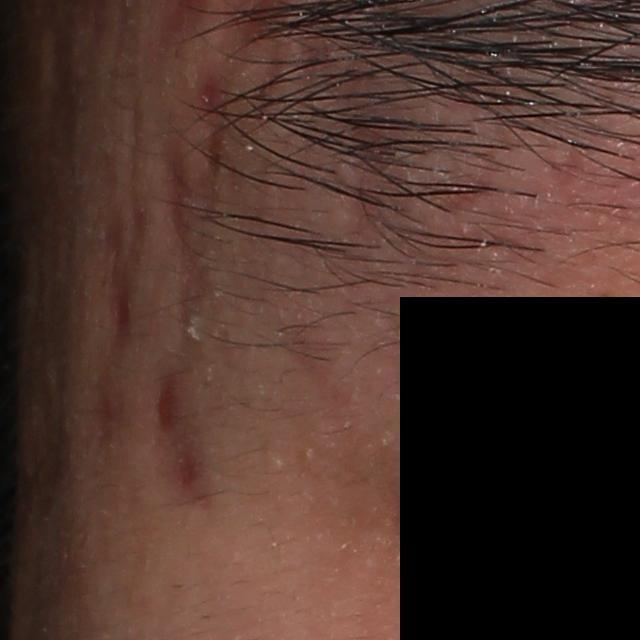atrophic_scar: (98, 205, 153, 347), (151, 100, 192, 251), (146, 351, 193, 442), (195, 70, 229, 186)
